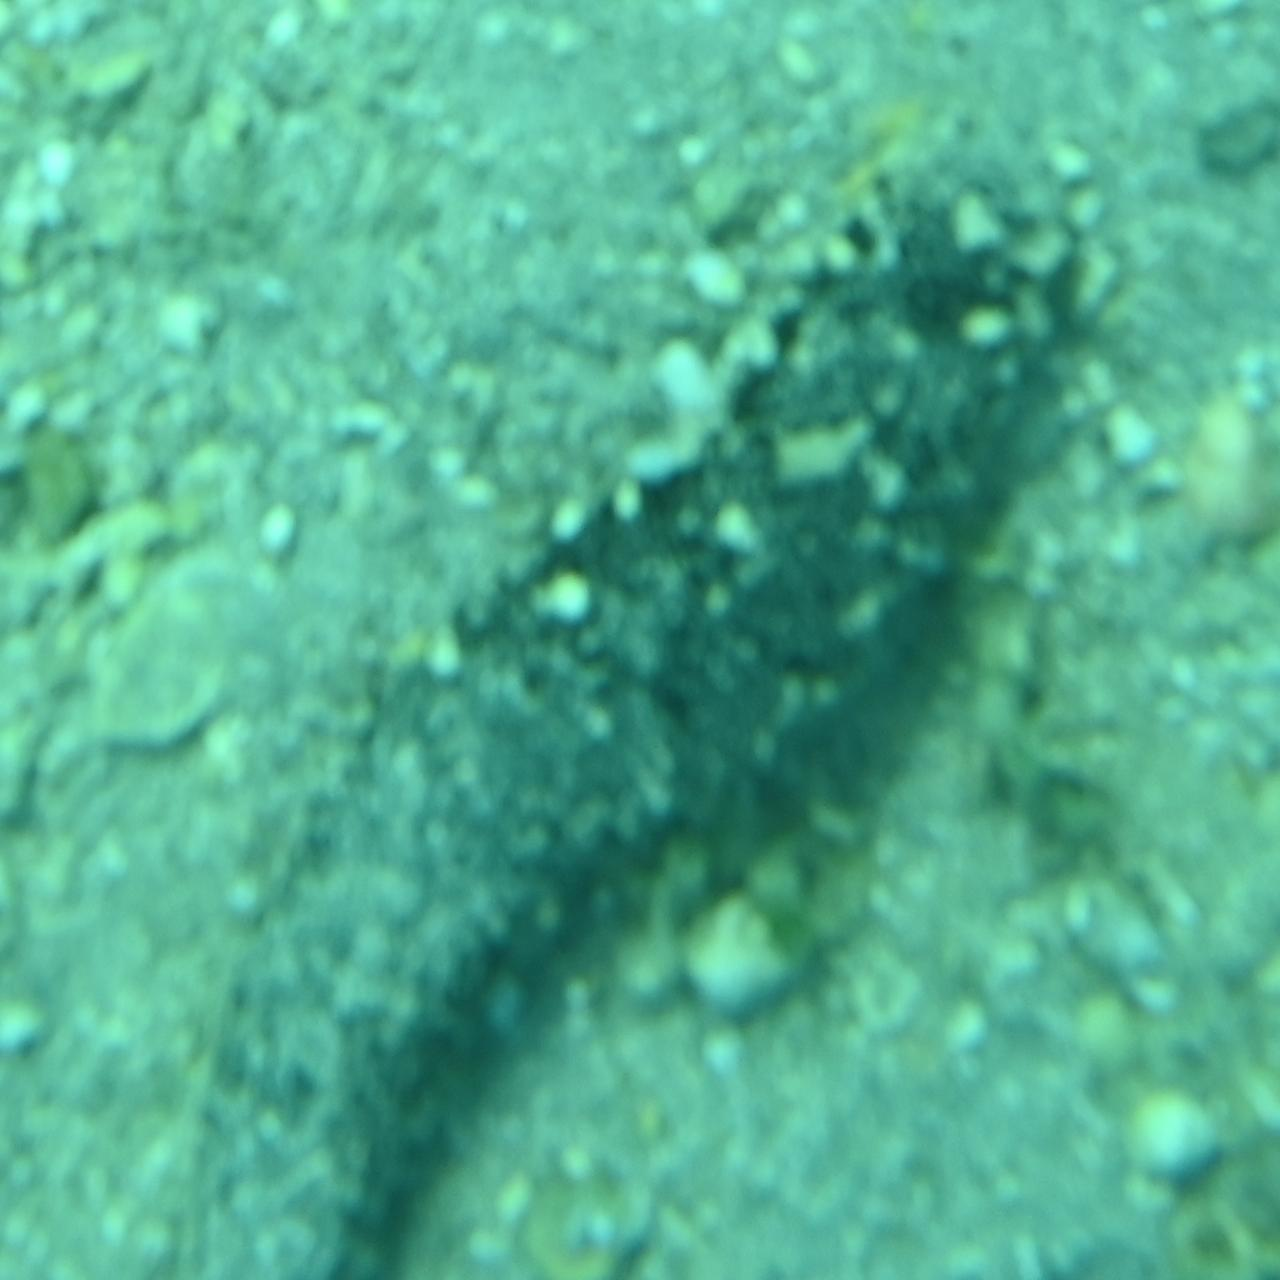Holothuria tubulosa: (140, 141, 1140, 1279)
